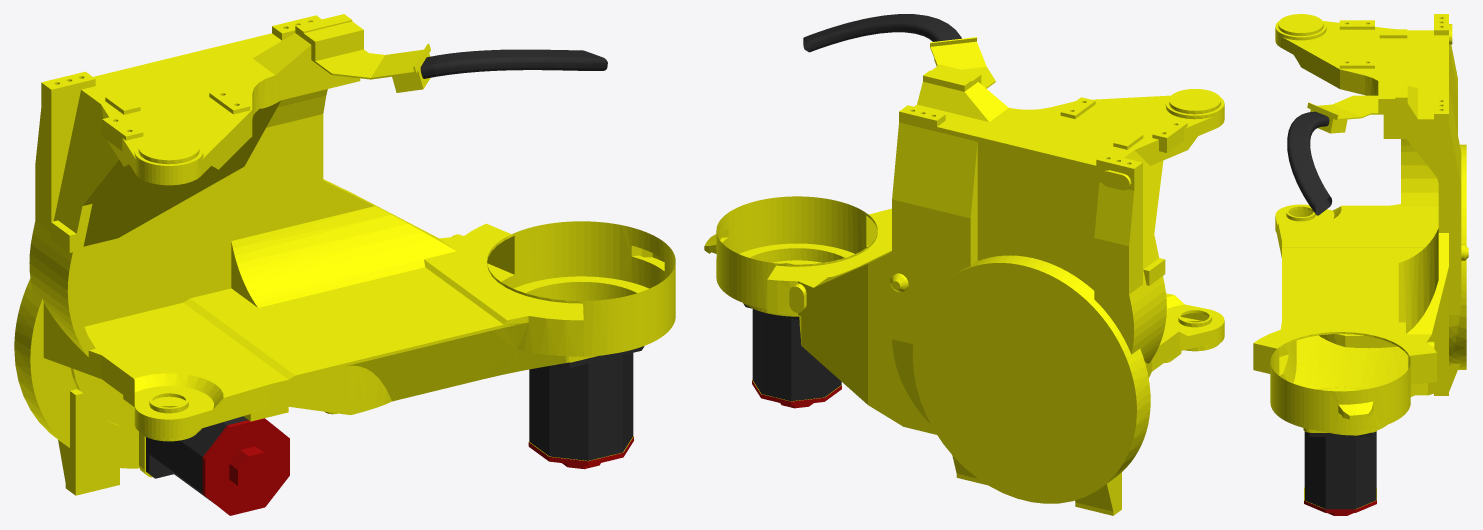
3 views of the same model, side by side, from view 1: azimuth 30°, elevation 25°; view 2: azimuth 150°, elevation 25°; view 3: azimuth 270°, elevation 25° (orthographic). The views are drawn at different scales.
Visible parts, largest first — view 1: node; view 2: node; view 3: node.
Boxes of the visible parts, left/top/right/bottom form: node: left=14, top=14, right=675, bottom=515; node: left=704, top=14, right=1224, bottom=515; node: left=1253, top=14, right=1468, bottom=515.
Size of the model in its own units: 1183 by 900 by 515.
